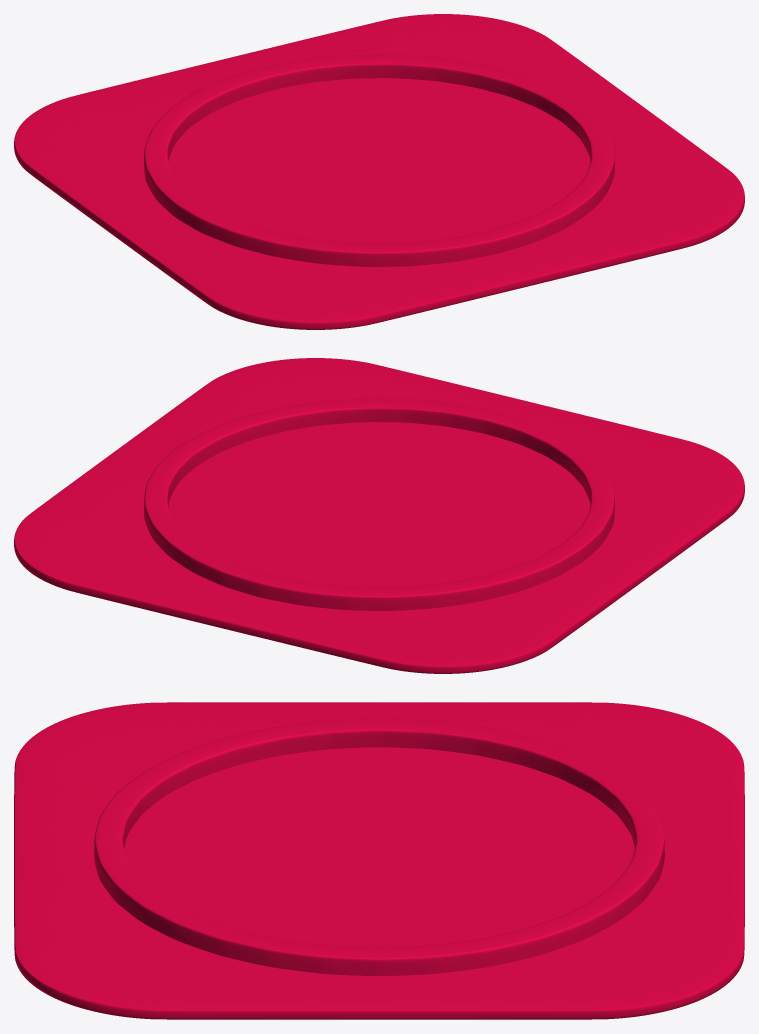
Rendered from Area.obj.
3 renders of one model, top to bottom at view 1: azimuth 30°, elevation 25°; view 2: azimuth 150°, elevation 25°; view 3: azimuth 270°, elevation 25°, orthographic. The views are drawn at different scales.
Visible parts, largest first — view 1: AREA_Cylinder.006; view 2: AREA_Cylinder.006; view 3: AREA_Cylinder.006.
Part boxes in pixels (x1,y1,x2,y2): AREA_Cylinder.006: (14, 14, 744, 329); AREA_Cylinder.006: (14, 358, 744, 673); AREA_Cylinder.006: (14, 702, 744, 1019).
Bounding box in the file's own units: 3.37 × 0.1807 × 3.37.
Materials: 1 (1 with a texture image).
